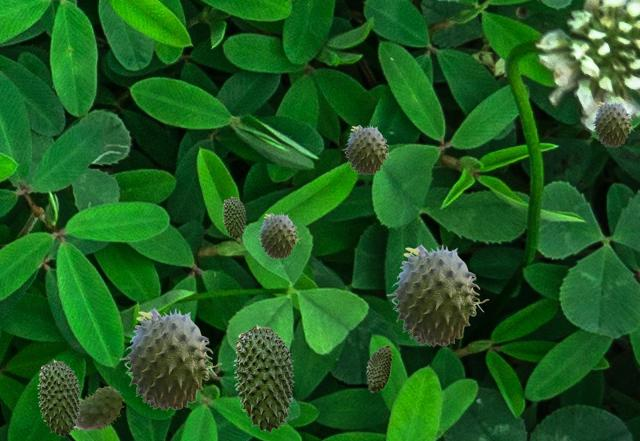guyabano: (119, 307, 221, 410), (386, 243, 488, 346), (233, 324, 294, 432), (37, 359, 80, 436), (342, 124, 392, 174), (75, 386, 123, 432), (256, 212, 301, 258), (590, 100, 635, 146), (366, 345, 391, 391), (222, 196, 245, 238)
